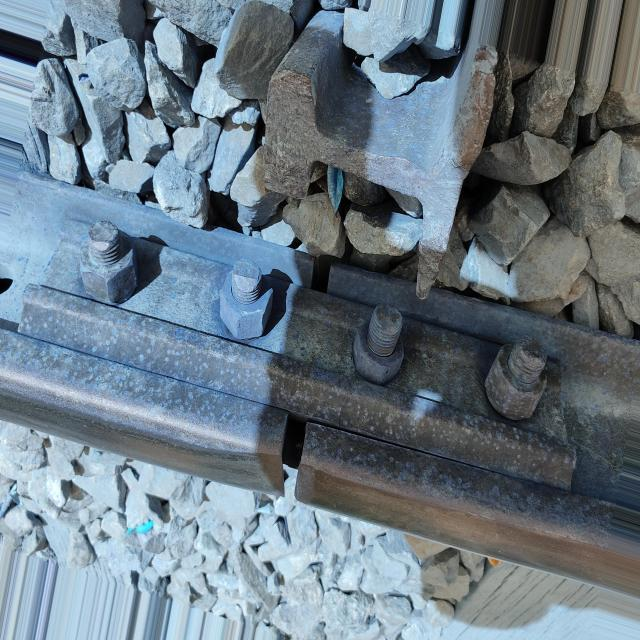Good Joint: (24, 209, 588, 493)
